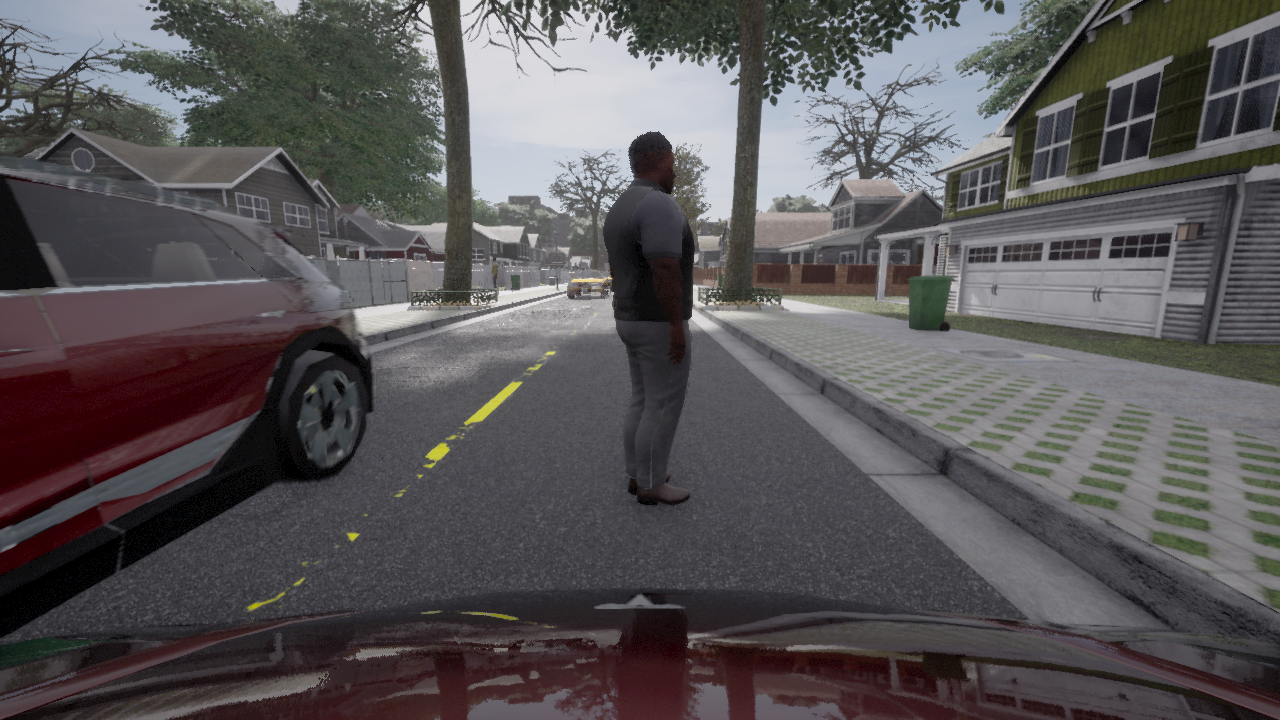cyclist: (0, 588, 1279, 719), (568, 266, 608, 297), (601, 269, 614, 290)
pedestrian: (604, 130, 695, 504), (492, 256, 498, 295)
